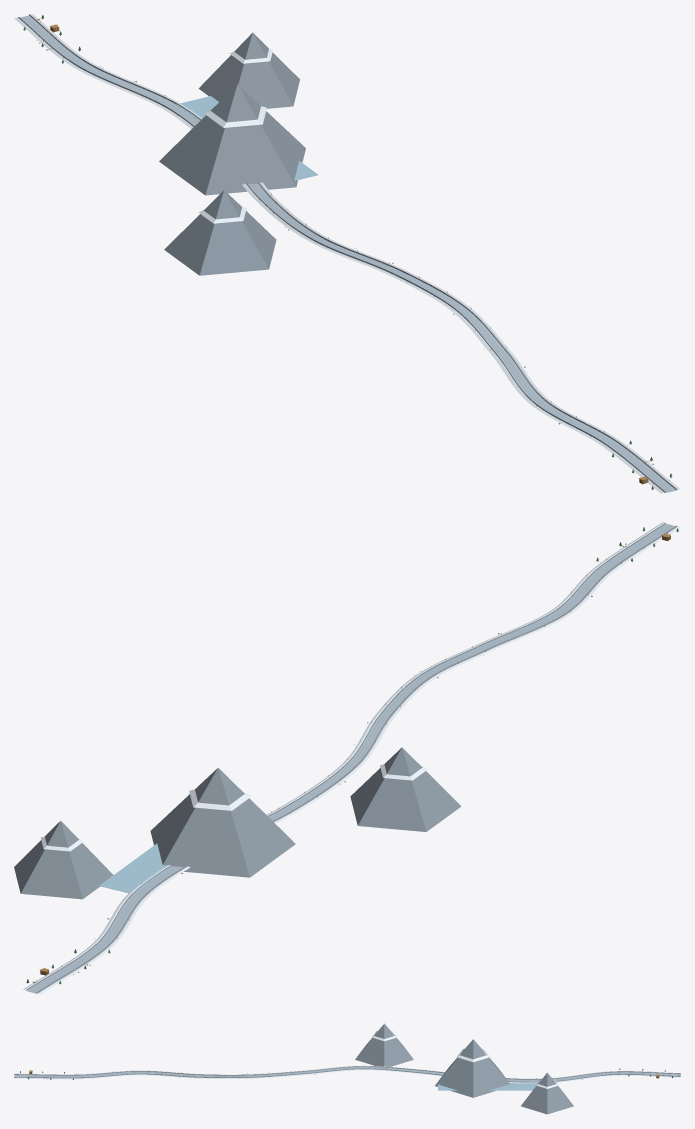
Rendered from Mush_Map_Snowfield_V2.fbx.
The picture shows the model from 3 angles, top to bottom: view 1: azimuth 30°, elevation 25°; view 2: azimuth 150°, elevation 25°; view 3: azimuth 270°, elevation 25°; orthographic projection. The views are drawn at different scales.
Visible parts, largest first — view 1: LM_MountainSilhouette, LM_FrozenLake; view 2: LM_MountainSilhouette, LM_FrozenLake; view 3: LM_MountainSilhouette, LM_FrozenLake.
Part boxes in pixels (x1=…): LM_MountainSilhouette: x1=159, y1=32, x2=305, y2=275; LM_FrozenLake: x1=176, y1=96, x2=318, y2=180; LM_MountainSilhouette: x1=14, y1=747, x2=461, y2=899; LM_FrozenLake: x1=99, y1=843, x2=171, y2=894; LM_MountainSilhouette: x1=355, y1=1023, x2=573, y2=1114; LM_FrozenLake: x1=438, y1=1082, x2=537, y2=1090.
Bounding box in the file's own units: 22198 × 6200 × 90068.
